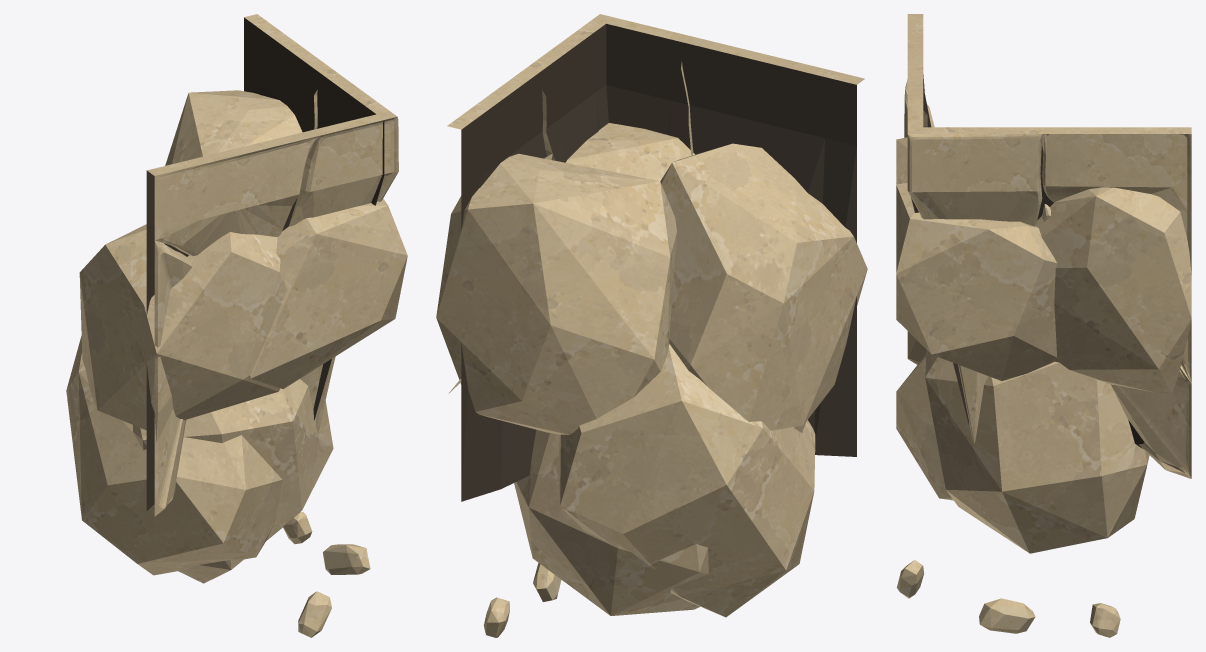
Rendered from ground_bottom_square_corner_06.glb.
The picture shows the model from 3 angles, left to right: view 1: azimuth 30°, elevation 25°; view 2: azimuth 150°, elevation 25°; view 3: azimuth 270°, elevation 25°; orthographic projection. The views are drawn at different scales.
Parts seen in each view (by area): view 1: GroundBottomSquareCorner06_Body; view 2: GroundBottomSquareCorner06_Body; view 3: GroundBottomSquareCorner06_Body.
Part boxes in pixels (x1,y1,x2,y2): GroundBottomSquareCorner06_Body: [66, 14, 407, 637]; GroundBottomSquareCorner06_Body: [436, 14, 867, 637]; GroundBottomSquareCorner06_Body: [896, 14, 1191, 637].
Size of the model in its own units: 1.04 by 1.97 by 1.04.
Materials: 8 (7 with a texture image).
